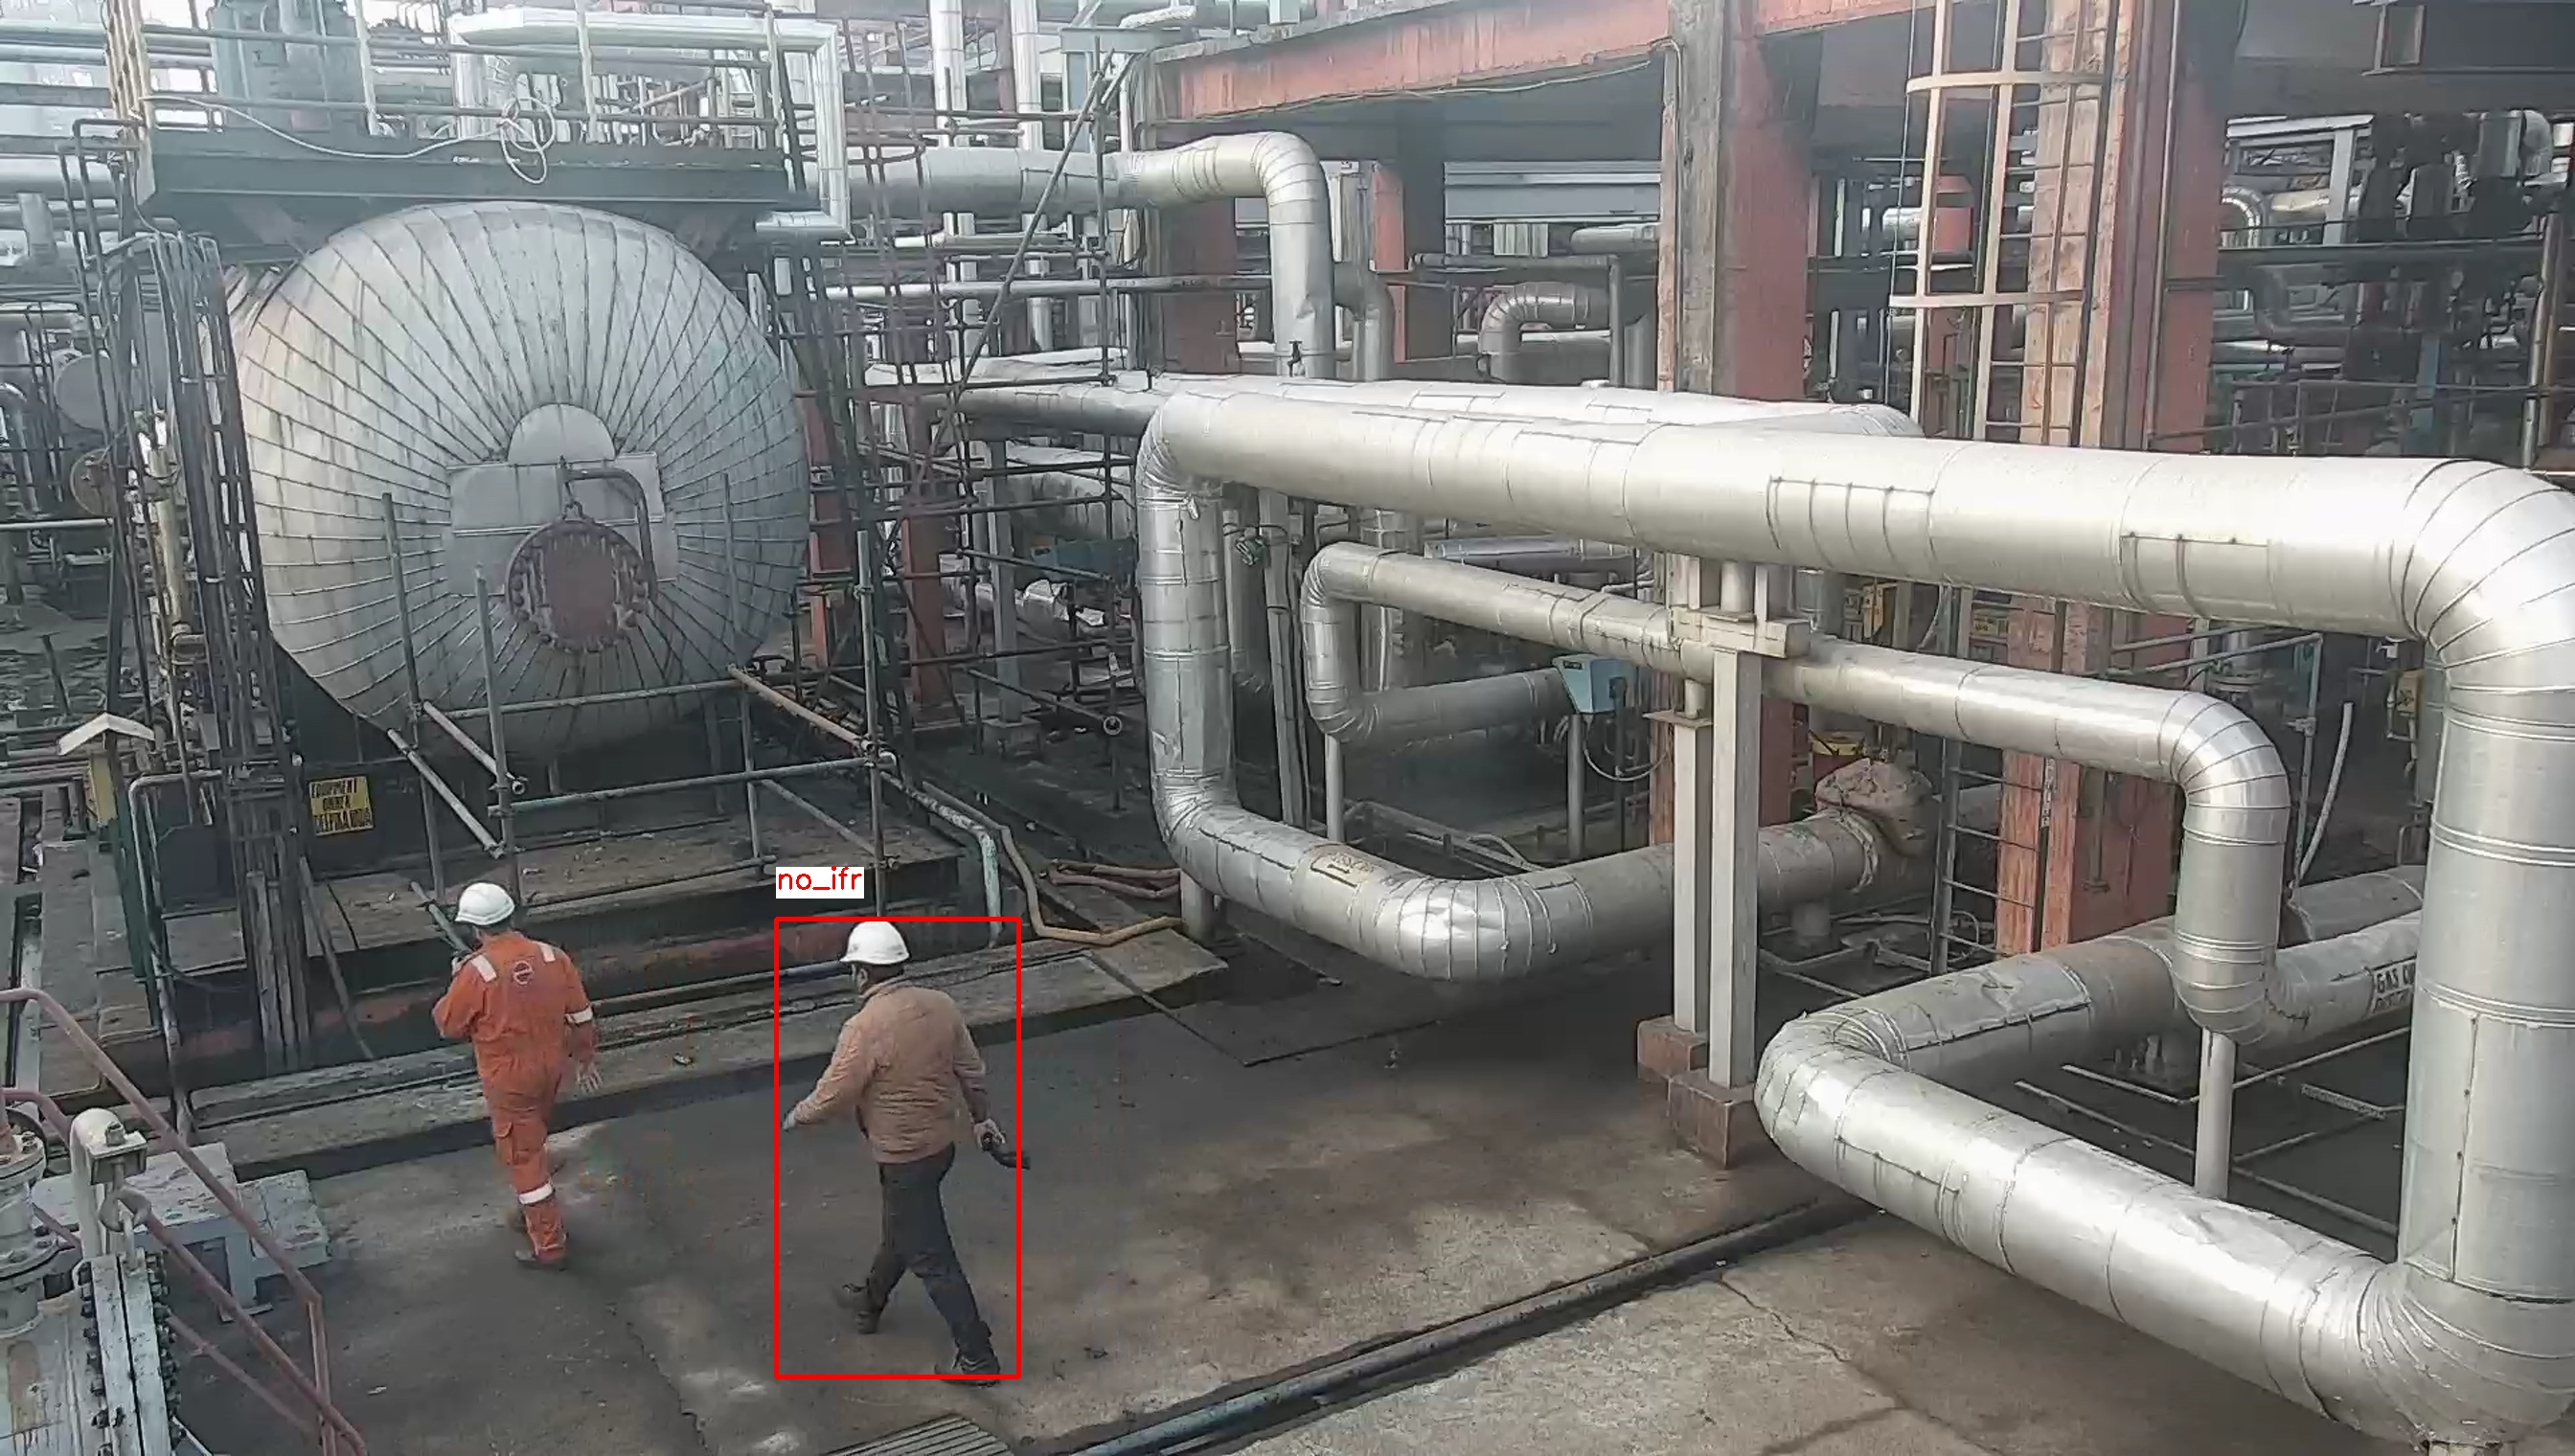Boots: (833, 1279, 884, 1343)
Helmets: (833, 918, 913, 968), (453, 874, 518, 931)
IFR_Suit: (432, 934, 600, 1247)
